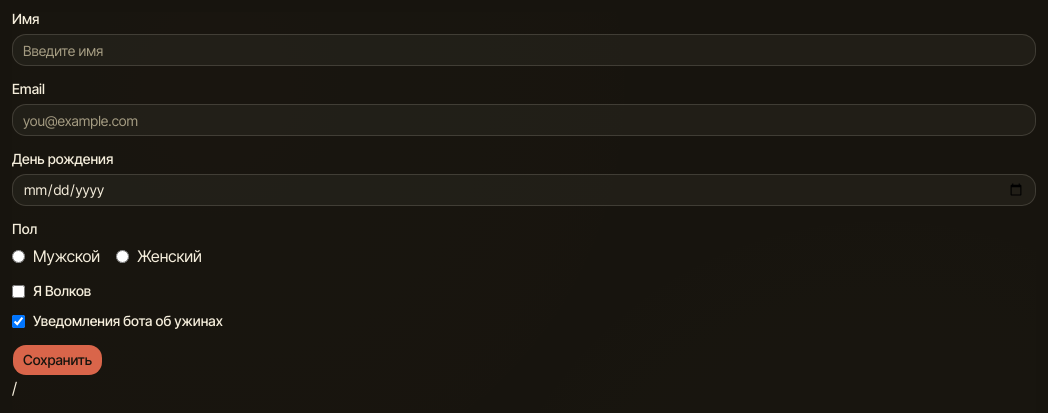
ProfileForm › при женском поле меняется подпись чекбокса
Expected: the text "Я Волков" is shown, [33,284,91,298]
Click the radio button labelled "Женский". click: (123, 256)
box: [116,250,129,262]
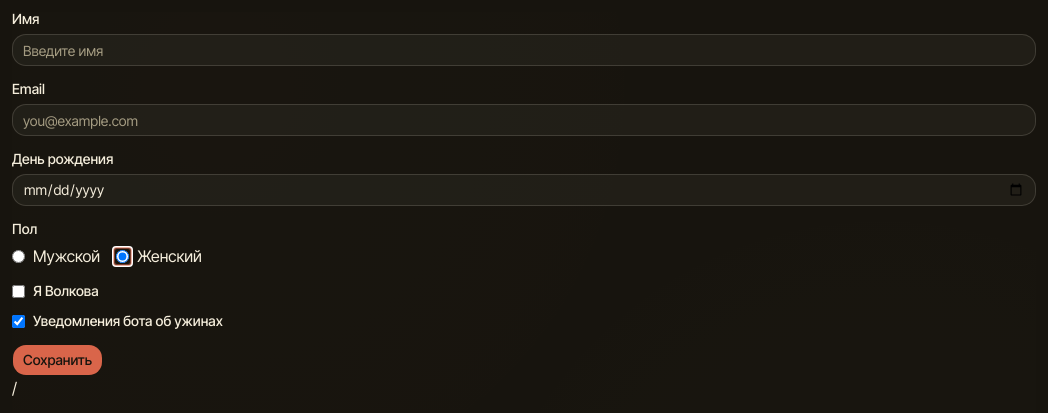
Expected: the text "Я Волкова" is shown, [33,284,98,298]
